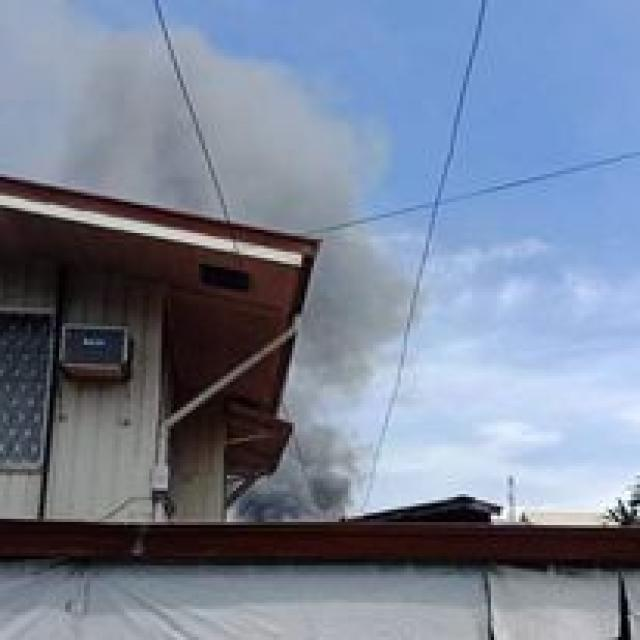Smoke: (0, 4, 373, 202), (308, 226, 401, 474), (241, 459, 367, 514)
